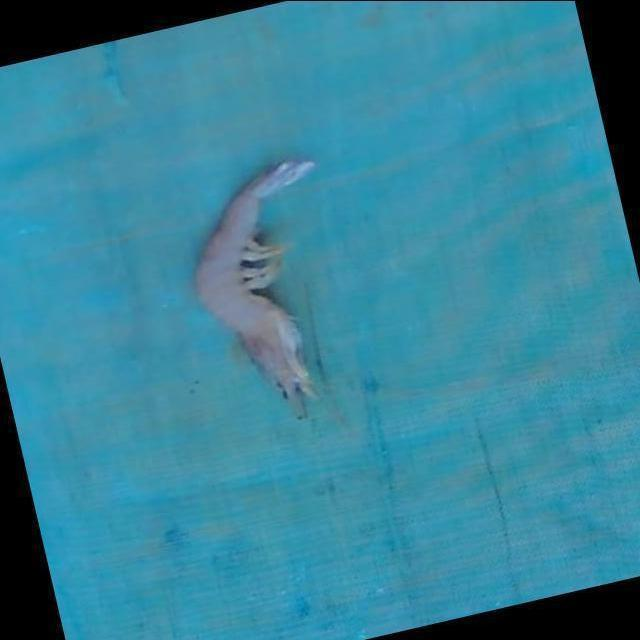shrimp: (195, 160, 314, 400)
